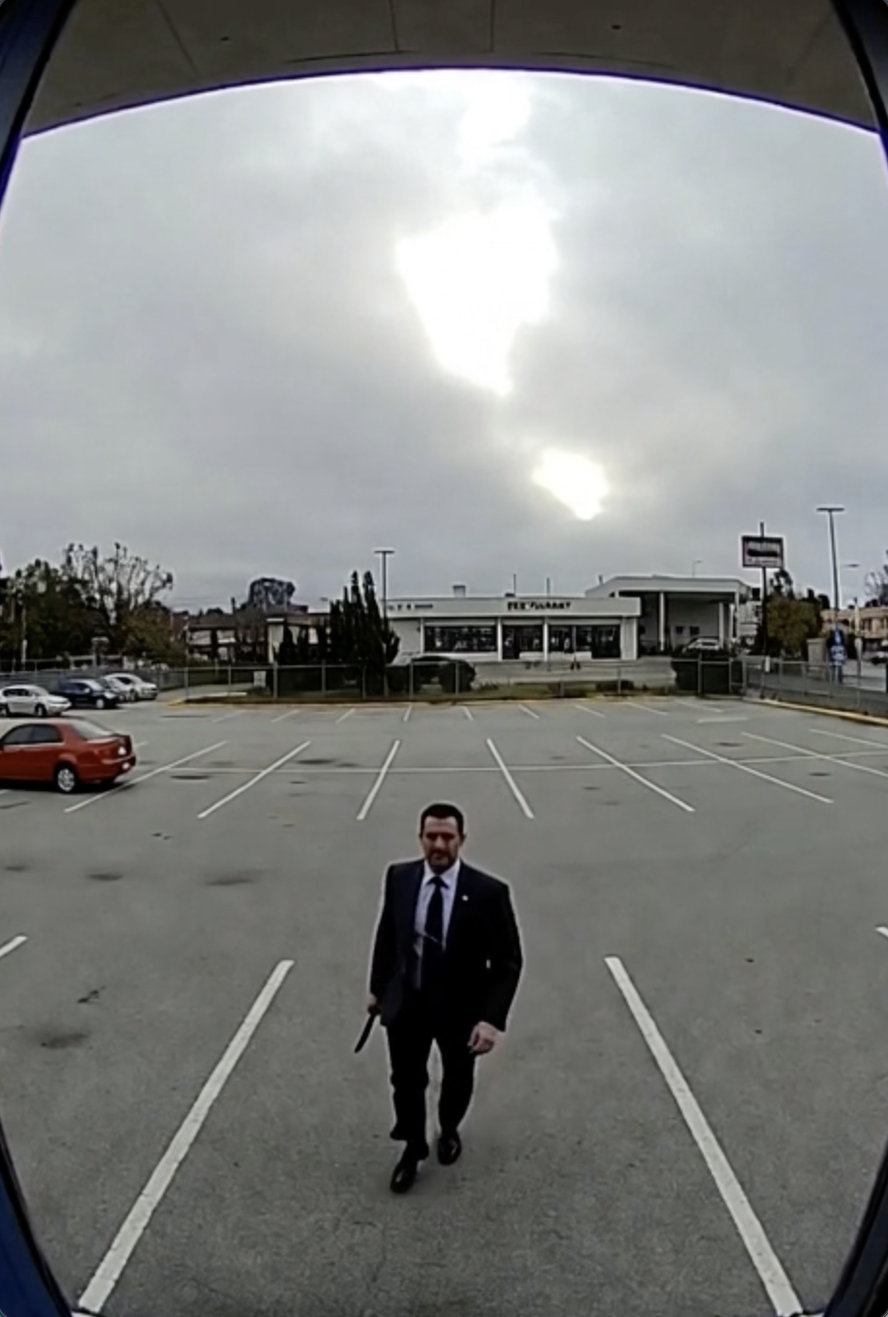Heavy Gun: (351, 788, 525, 1200)
Knife: (353, 986, 382, 1067)
